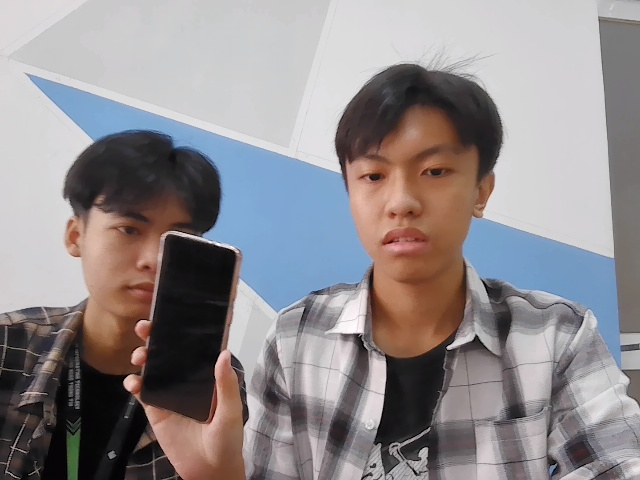human: (336, 68, 503, 282), (67, 128, 224, 321)
phone: (134, 232, 243, 427)
